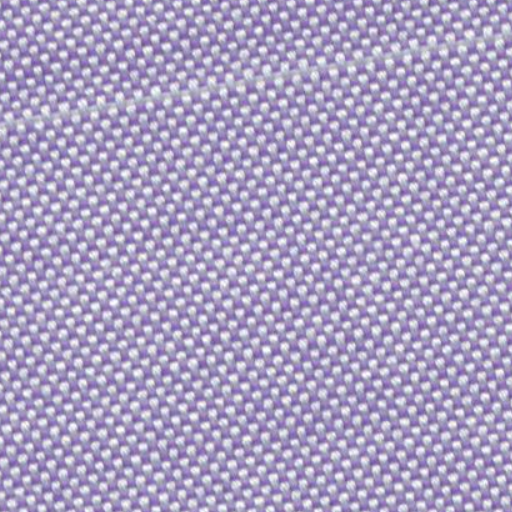TuoSha: (12, 22, 502, 132)
